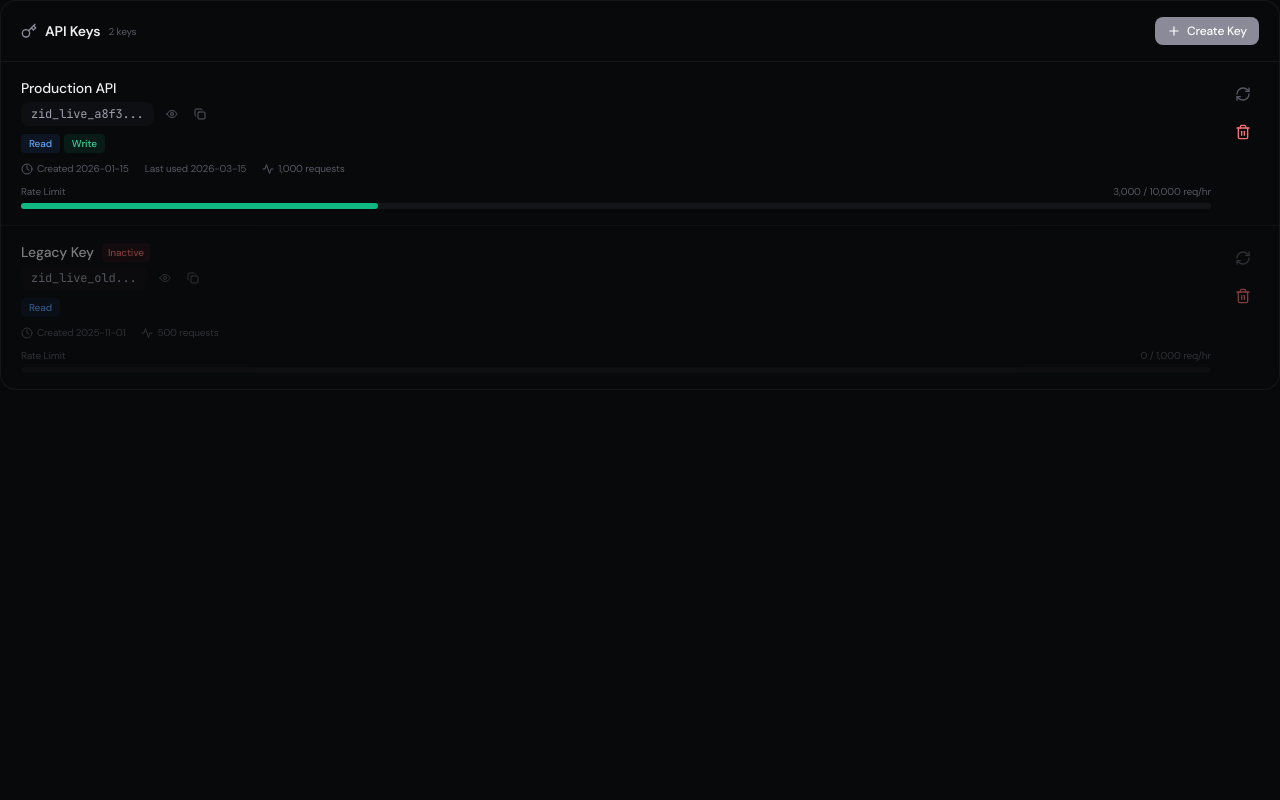
Test: APIKeyManager › opens delete confirmation modal
Click the button named "Delete key" in the row of "zid_live_a8f3..." at (1243, 132), box left=1227, top=116, right=1259, bottom=148
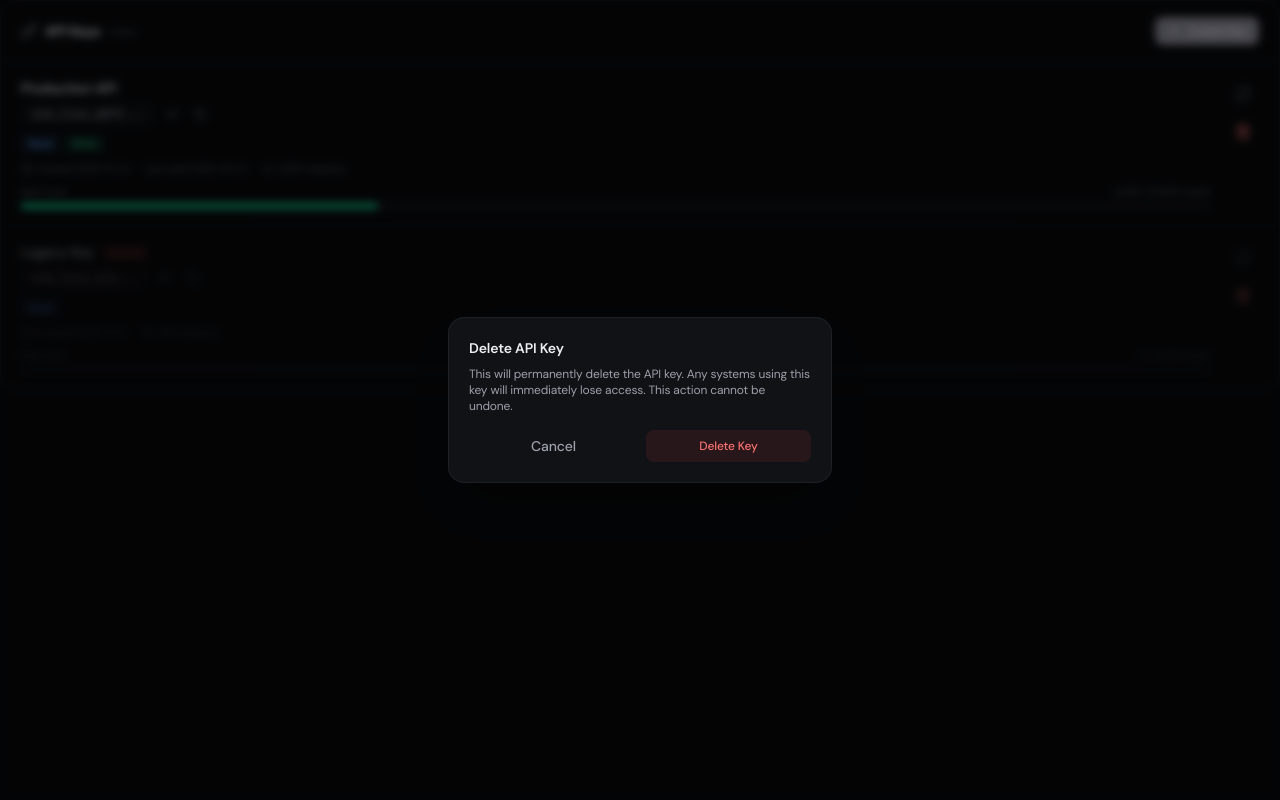
Result: the heading "Delete API Key" is shown at left=469, top=339, right=564, bottom=357
Result: the button "Delete Key" is shown at left=646, top=430, right=811, bottom=462
